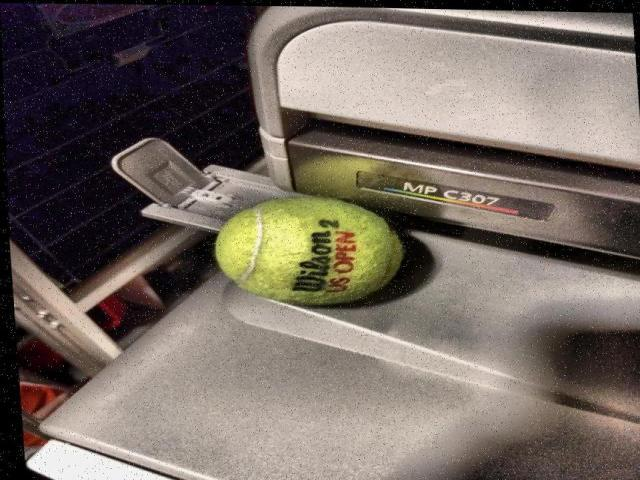tennis-ball: (212, 192, 408, 307)
